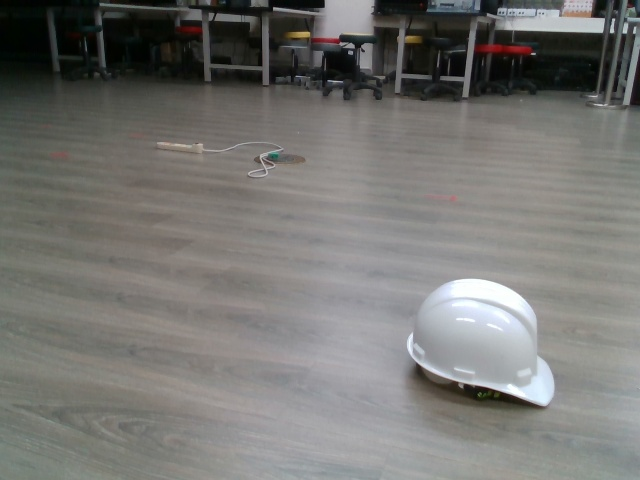helmet: (406, 276, 556, 412)
